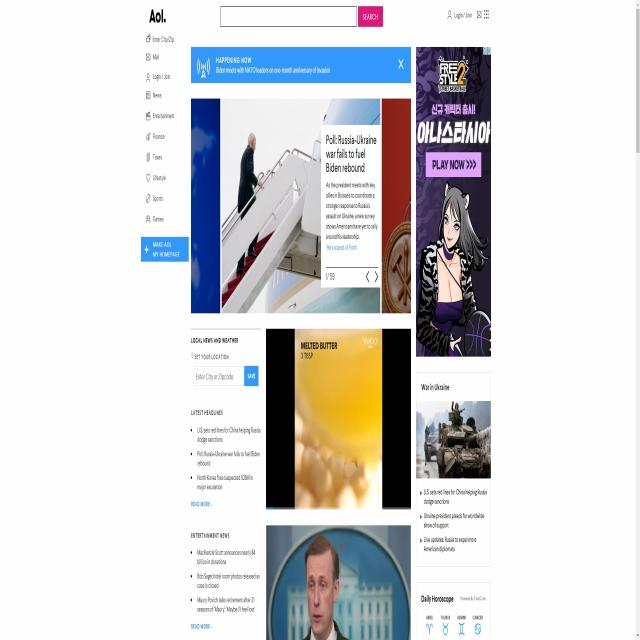menu-bar: (444, 6, 491, 26)
menu-panel: (141, 27, 189, 262)
search: (218, 2, 384, 30), (191, 363, 260, 390)
side-panel: (415, 370, 492, 640)
